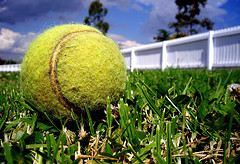tennis ball: (19, 23, 127, 119)
